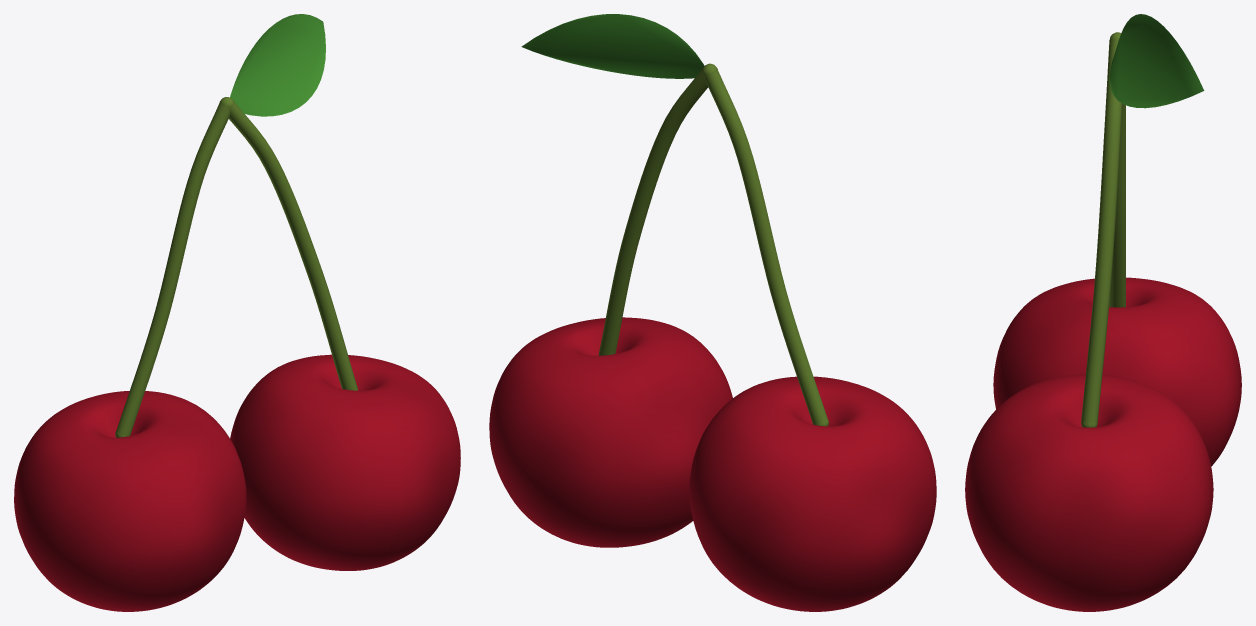
Rendered from cherry.glb.
3 renders of one model, left to right at view 1: azimuth 30°, elevation 25°; view 2: azimuth 150°, elevation 25°; view 3: azimuth 270°, elevation 25°, orthographic. The views are drawn at different scales.
Visible parts, largest first — view 1: Cherries; view 2: Cherries; view 3: Cherries.
Part boxes in pixels (x1,y1,x2,y2): Cherries: (14,14,460,611); Cherries: (489,14,936,611); Cherries: (965,14,1241,611).
Bounding box in the file's own units: 0.2102 × 0.2584 × 0.1172.
